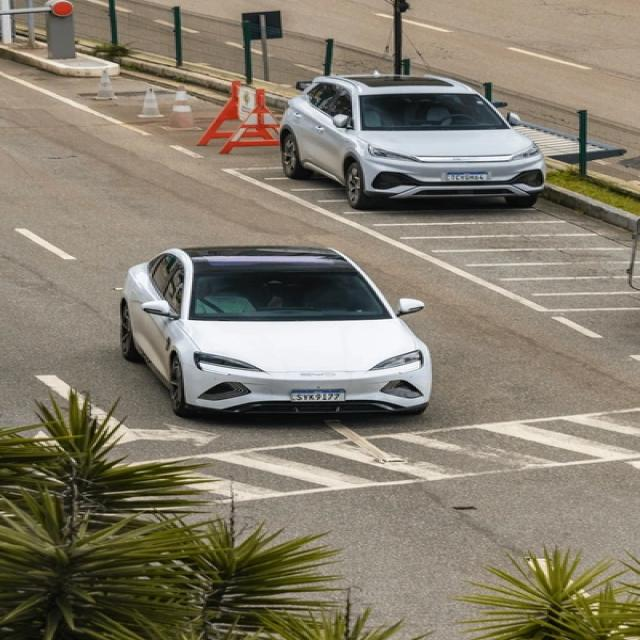byd: (296, 370, 344, 380)
